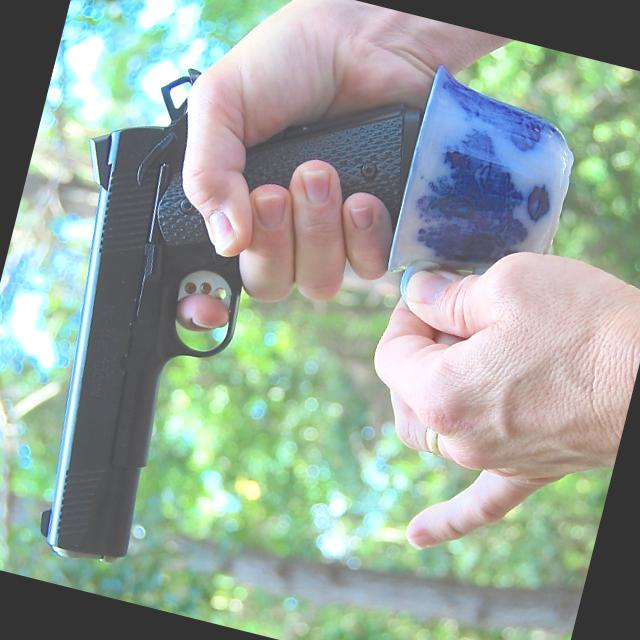handgun: (0, 31, 425, 616)
